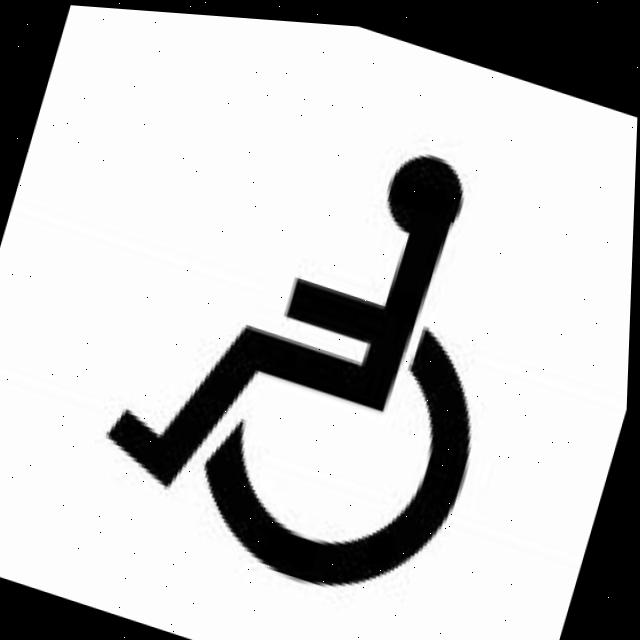symbol_of_access: (76, 62, 560, 629)
